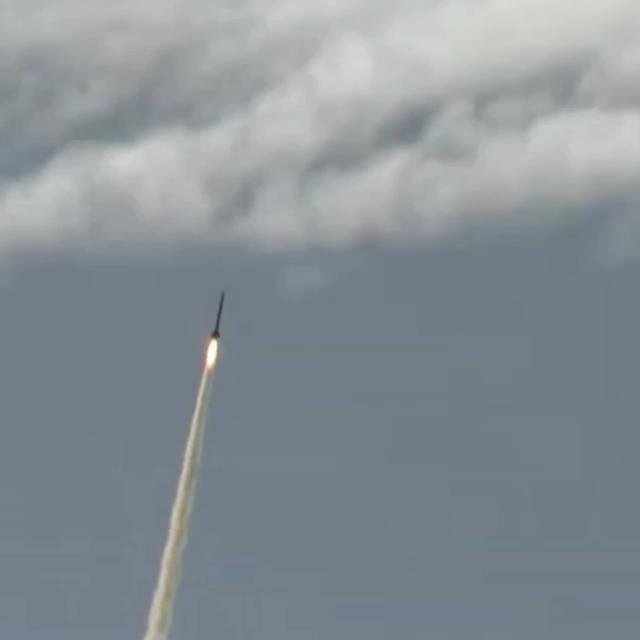rocket: (209, 292, 226, 339)
smoke_trail_with_rocket: (141, 293, 225, 640)
